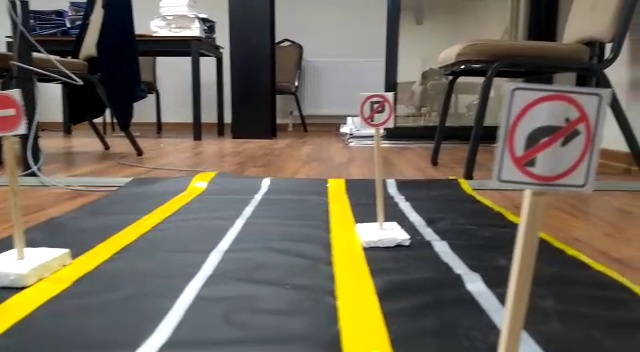girisi_olmayan_yol: (1, 89, 24, 135)
park_yapilmaz: (357, 93, 394, 128)
saga_donulmez: (507, 86, 594, 185)
